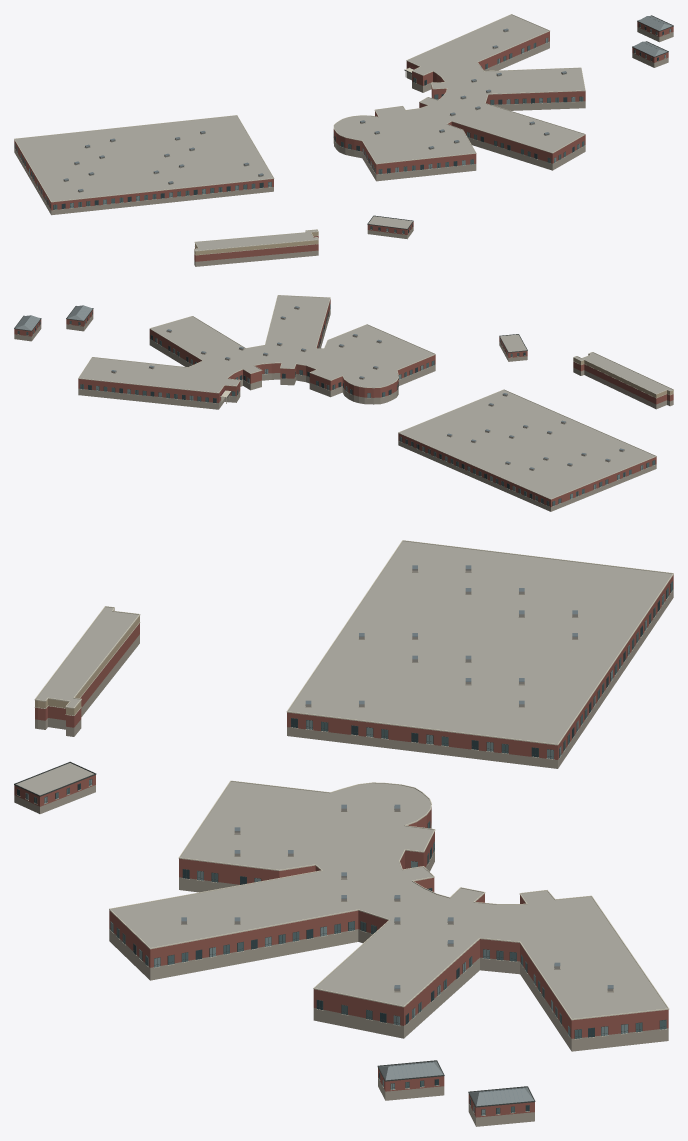
Rendered from lafayette-upper-elementary.glb.
3 views of the same model, one above another, from view 1: azimuth 30°, elevation 25°; view 2: azimuth 150°, elevation 25°; view 3: azimuth 270°, elevation 25° (orthographic). The views are drawn at different scales.
Parts seen in each view (by area): view 1: 634377426 | Roof, 634377426 | Shell and foundation, 634377426 | Facades, 634377431 | Shell and foundation, 634377428 | Roof; view 2: 634377426 | Roof, 634377426 | Shell and foundation, 634377426 | Facades, 634377431 | Shell and foundation, 634377428 | Roof; view 3: 634377426 | Roof, 634377426 | Shell and foundation, 634377426 | Facades.
Boxes of the visible parts, x1=… form: 634377426 | Roof: x1=15, y1=14, x2=672, y2=250; 634377426 | Shell and foundation: x1=14, y1=21, x2=673, y2=266; 634377426 | Facades: x1=14, y1=14, x2=673, y2=255; 634377431 | Shell and foundation: x1=194, y1=232, x2=318, y2=255; 634377428 | Roof: x1=63, y1=30, x2=566, y2=192; 634377426 | Roof: x1=15, y1=295, x2=672, y2=498; 634377426 | Shell and foundation: x1=14, y1=299, x2=673, y2=511; 634377426 | Facades: x1=14, y1=295, x2=673, y2=506; 634377431 | Shell and foundation: x1=573, y1=354, x2=673, y2=397; 634377428 | Roof: x1=111, y1=307, x2=624, y2=470; 634377426 | Roof: x1=16, y1=541, x2=672, y2=1106; 634377426 | Shell and foundation: x1=14, y1=568, x2=673, y2=1126; 634377426 | Facades: x1=14, y1=540, x2=673, y2=1115.
Size of the model in its own units: 306 by 13.32 by 149.
